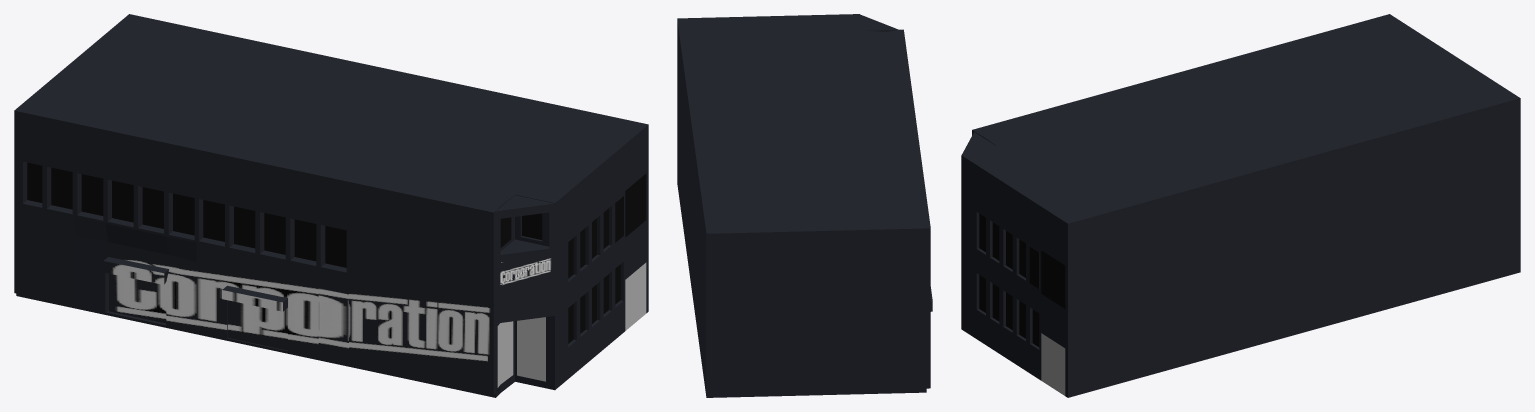
The model's file is Corporation.fbx.
3 renders of one model, left to right at view 1: azimuth 30°, elevation 25°; view 2: azimuth 150°, elevation 25°; view 3: azimuth 270°, elevation 25°, orthographic. The views are drawn at different scales.
Visible parts, largest first — view 1: Corporation; view 2: Corporation; view 3: Corporation.
Boxes of the visible parts, x1,y1,x2,y2 form: Corporation: (14,14,648,397); Corporation: (677,14,932,397); Corporation: (961,14,1520,397).
Size of the model in its own units: 4238 by 1651 by 4773.
